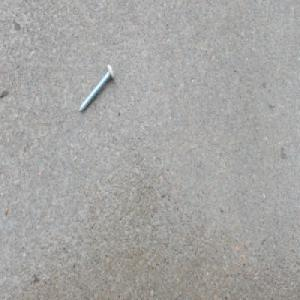Nail: (77, 62, 115, 115)
